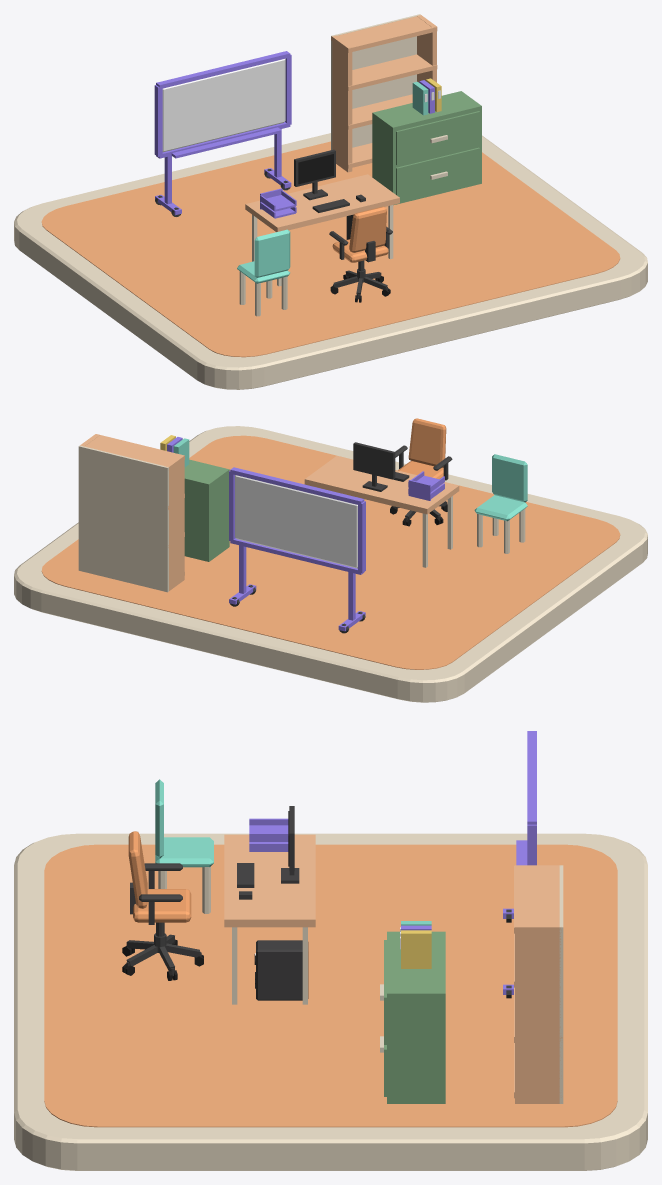
The model's file is room.fbx.
The picture shows the model from 3 angles, top to bottom: view 1: azimuth 30°, elevation 25°; view 2: azimuth 150°, elevation 25°; view 3: azimuth 270°, elevation 25°; orthographic projection. The views are drawn at different scales.
Visible parts, largest first — view 1: COM-02 Floor Surface, COM-01 Rounded Base Direct, Cabinet, Writing surface, Top, Back, COM-04_Chair_blender_direct, Side, Shelf.003, Shelf.002, Backrest, Frame (+5 smaller); view 2: COM-02 Floor Surface, COM-01 Rounded Base Direct, Back, Writing surface, Cabinet, Top, COM-04_Chair_blender_direct, Side, Backrest, Frame, Shelf.003, Frame rail.001 (+3 smaller); view 3: COM-02 Floor Surface, COM-01 Rounded Base Direct, Cabinet, Top, Side.001, COM-04_Chair_blender_direct, Shelf.003, Tower, Seat, File.002, Back, Frame rail.001 (+2 smaller).
Part boxes in pixels (x1=…): COM-02 Floor Surface: x1=41, y1=141, x2=620, y2=357; COM-01 Rounded Base Direct: x1=14, y1=133, x2=647, y2=389; Cabinet: x1=372, y1=91, x2=481, y2=205; Writing surface: x1=162, y1=58, x2=285, y2=152; Top: x1=245, y1=174, x2=399, y2=286; Back: x1=331, y1=14, x2=420, y2=150; COM-04_Chair_blender_direct: x1=329, y1=206, x2=392, y2=302; Side: x1=332, y1=35, x2=352, y2=172; Shelf.003: x1=331, y1=16, x2=437, y2=52; Shelf.002: x1=332, y1=54, x2=437, y2=90; Backrest: x1=254, y1=229, x2=290, y2=277; Frame: x1=294, y1=149, x2=335, y2=200; COM-02 Floor Surface: x1=41, y1=435, x2=620, y2=669; COM-01 Rounded Base Direct: x1=14, y1=426, x2=647, y2=702; Back: x1=78, y1=445, x2=168, y2=592; Writing surface: x1=235, y1=475, x2=357, y2=568; Cabinet: x1=184, y1=459, x2=229, y2=561; Top: x1=304, y1=455, x2=459, y2=567; COM-04_Chair_blender_direct: x1=390, y1=418, x2=452, y2=526; Side: x1=164, y1=454, x2=184, y2=590; Backrest: x1=492, y1=454, x2=527, y2=502; Frame: x1=353, y1=442, x2=395, y2=491; Shelf.003: x1=85, y1=434, x2=184, y2=471; Frame rail.001: x1=230, y1=467, x2=364, y2=505; COM-02 Floor Surface: x1=44, y1=844, x2=617, y2=1127; COM-01 Rounded Base Direct: x1=14, y1=833, x2=647, y2=1170; Cabinet: x1=380, y1=931, x2=445, y2=1103; Top: x1=224, y1=834, x2=315, y2=1004; Side.001: x1=515, y1=924, x2=560, y2=1103; COM-04_Chair_blender_direct: x1=122, y1=831, x2=203, y2=980; Shelf.003: x1=514, y1=865, x2=561, y2=933; Tower: x1=256, y1=940, x2=308, y2=1000; Seat: x1=155, y1=837, x2=213, y2=867; File.002: x1=401, y1=930, x2=431, y2=968; Back: x1=559, y1=865, x2=563, y2=1103; Frame rail.001: x1=527, y1=731, x2=536, y2=824.
Bounding box in the file's own units: 600 × 196 × 520.
